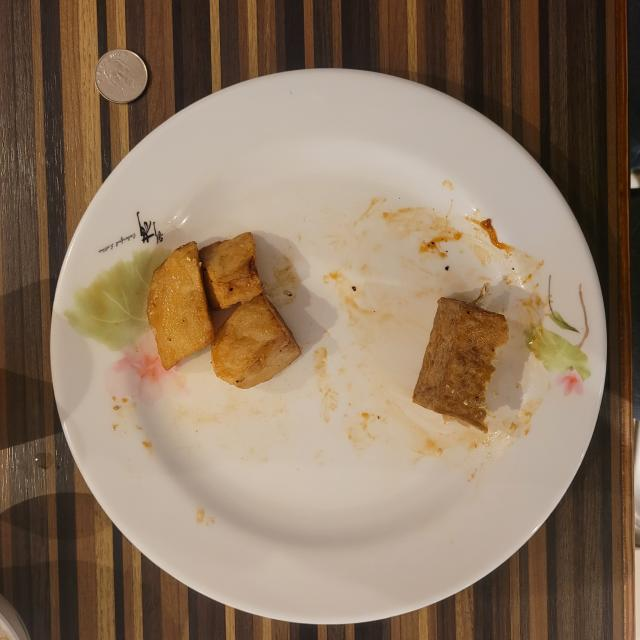coin: (95, 49, 148, 104)
egg tofu: (412, 298, 509, 432)
fried potato: (148, 232, 300, 388)
